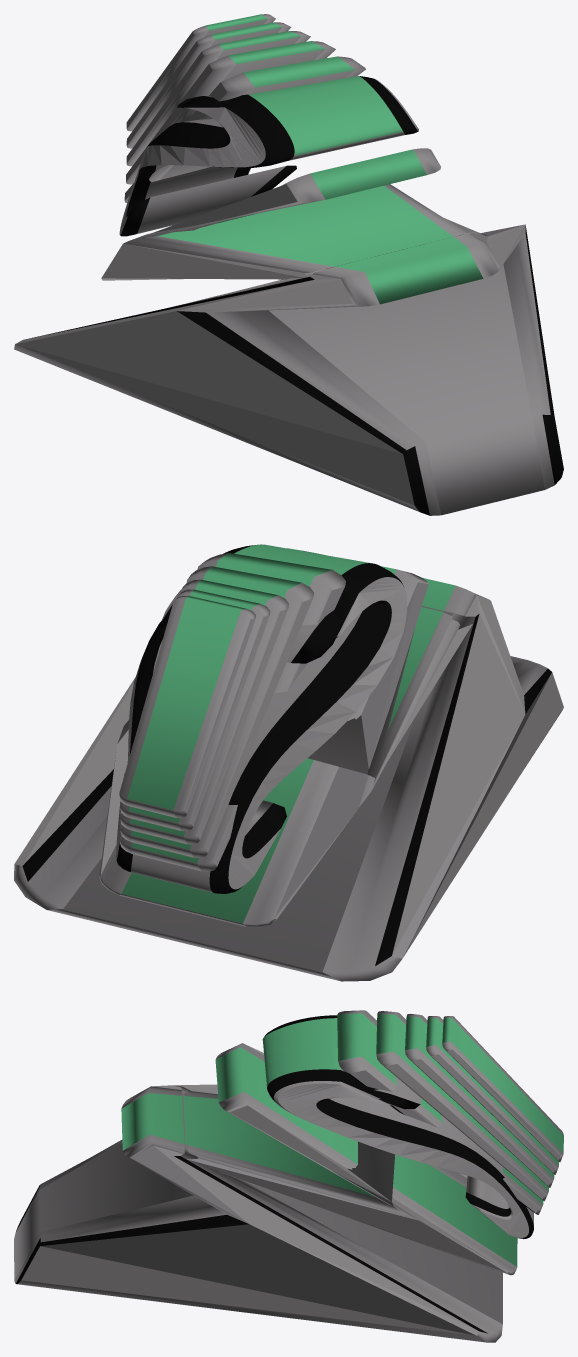
File: enemies2.fbx
3 views of the same model, one above another, from view 1: azimuth 30°, elevation 25°; view 2: azimuth 150°, elevation 25°; view 3: azimuth 270°, elevation 25° (orthographic). The views are drawn at different scales.
Visible parts, largest first — view 1: Text; view 2: Text; view 3: Text.
Part boxes in pixels (left/top/right/bottom): Text: left=14, top=14, right=563, bottom=515; Text: left=14, top=544, right=563, bottom=981; Text: left=14, top=1010, right=563, bottom=1342.
Bounding box in the file's own units: 184 × 143 × 280.
